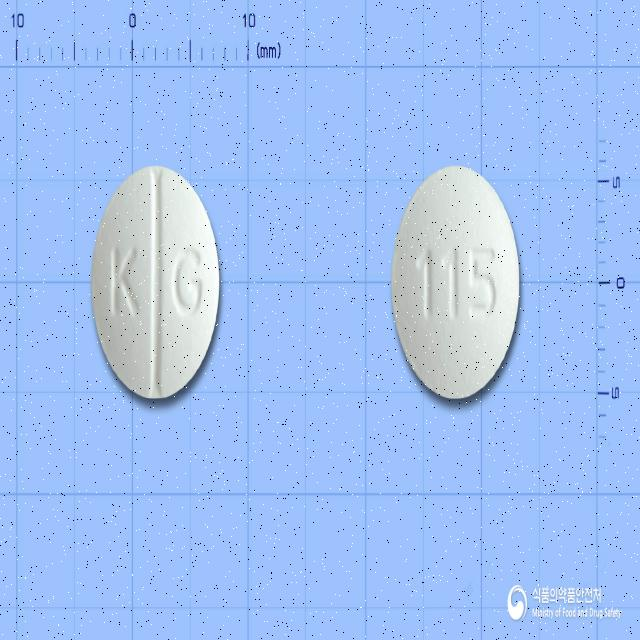Ciprocin - 259mg: (388, 154, 526, 408), (89, 161, 225, 409)
